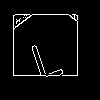L: (25, 30, 65, 82)
